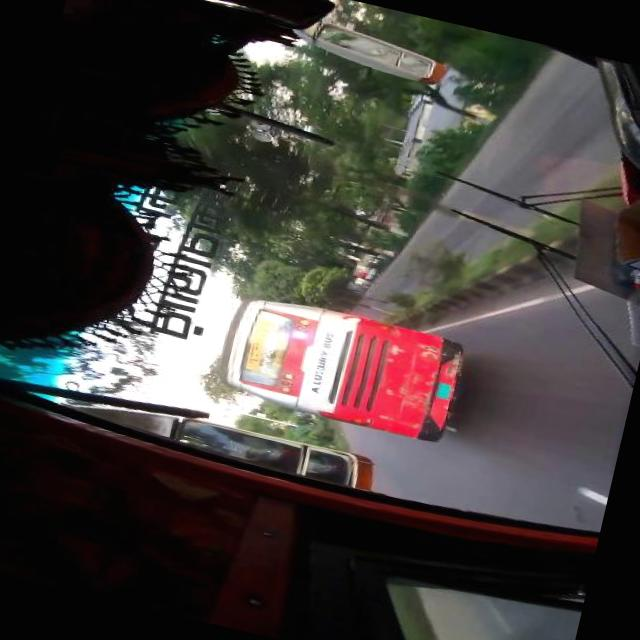bus: (212, 287, 472, 447)
